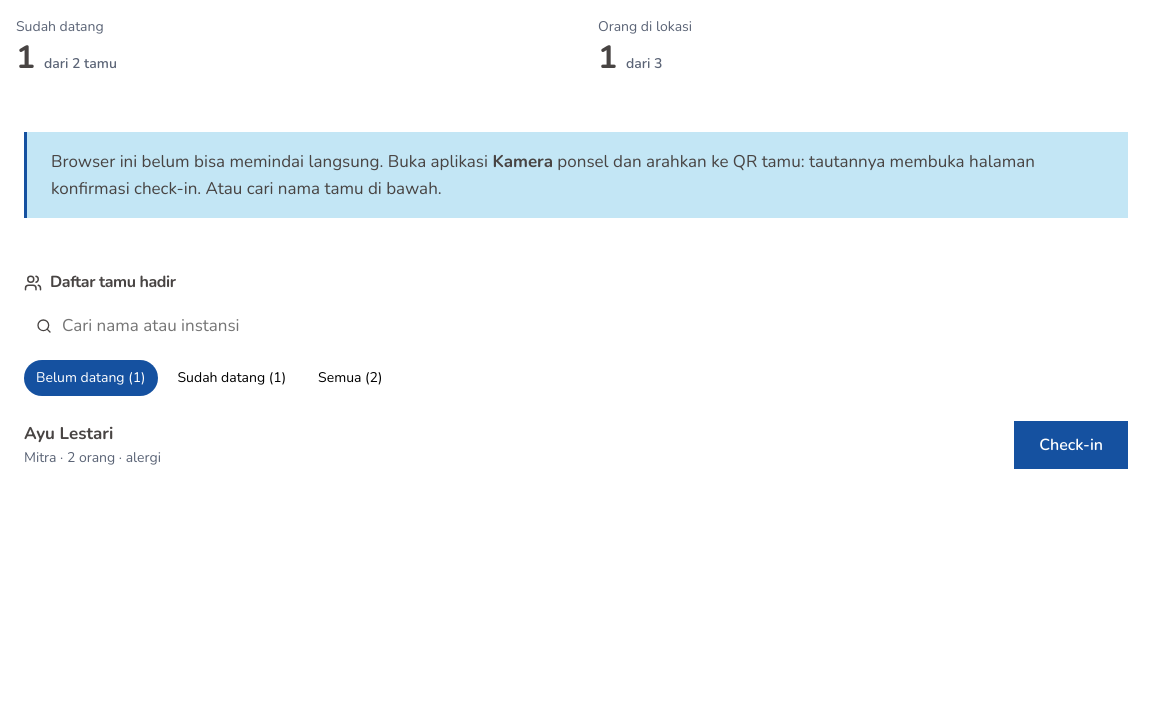
it: warns on a second scan and on an unknown ticket
The width and height of the screenshot is (1152, 720).
Step 1. Click the button "Semua (2)" → x=350, y=378, box [306,360,394,396]
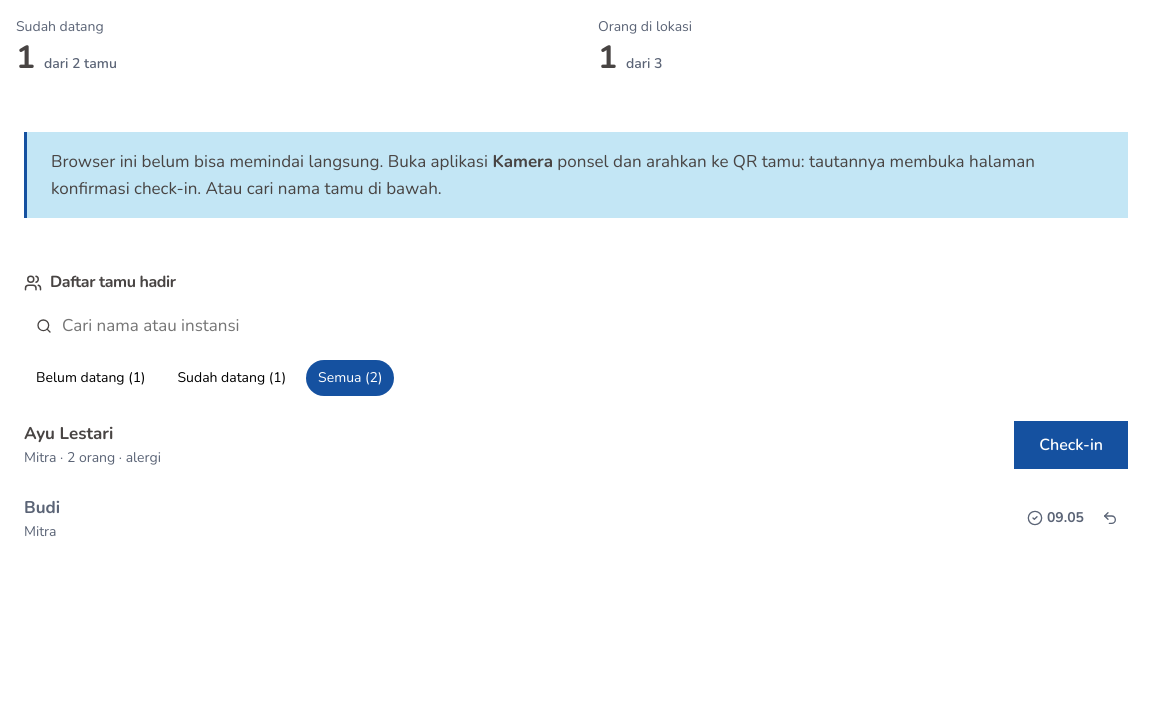
Step 2. Type "ayu" into the search field → x=588, y=326, box [60,304,1116,348]
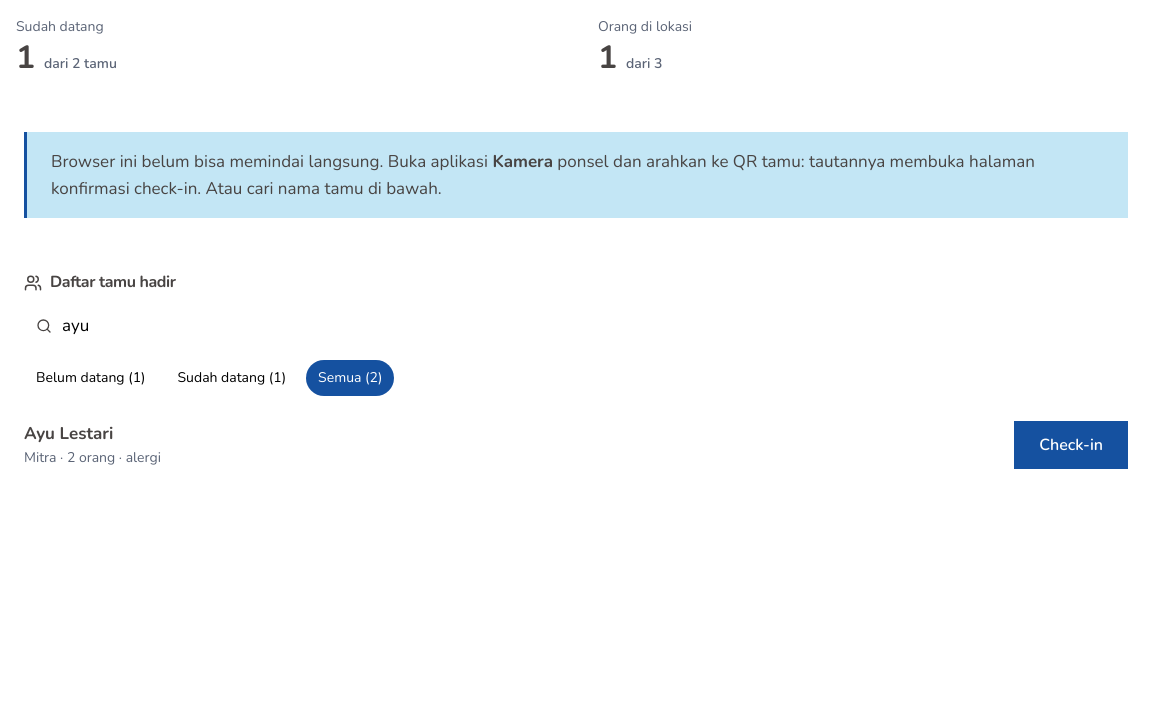
Check: the text "Budi" is gone
Step 3. Click the button "Check-in" → x=1071, y=445, box [1014,420,1128,469]
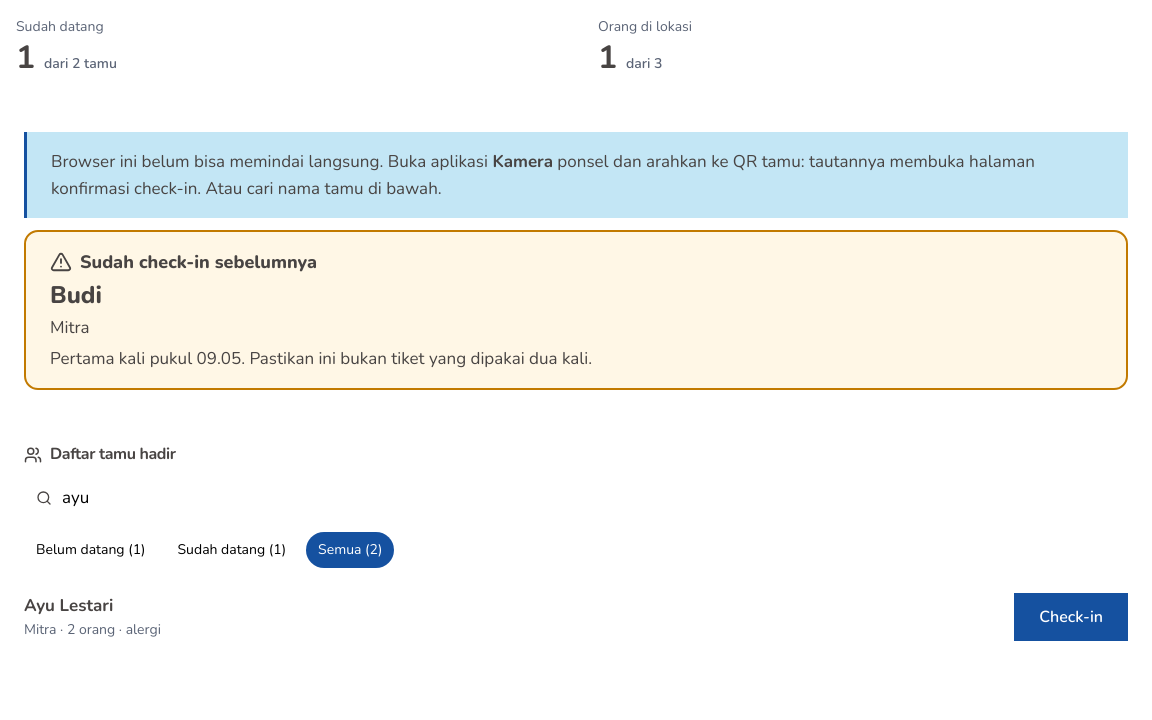
Check: the text "Sudah check-in sebelumnya" is shown, box [50,250,317,274]
Check: the text "Pastikan ini bukan tiket yang dipakai dua kali" is shown, box [241,347,592,370]
